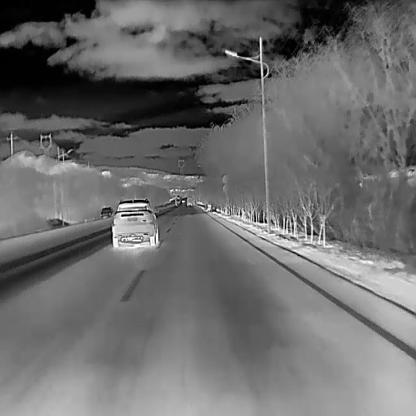bus: (185, 196, 193, 207), (176, 193, 180, 199)
car: (110, 198, 160, 250), (99, 204, 114, 219), (180, 198, 184, 204)
